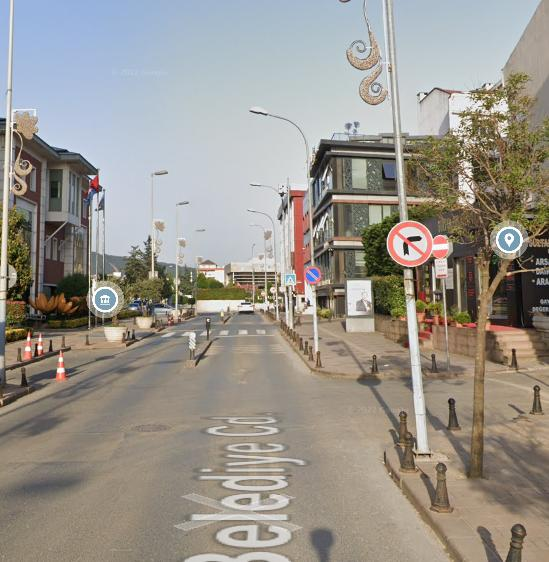nopark: (304, 267, 321, 283)
turnright: (387, 221, 431, 267)
